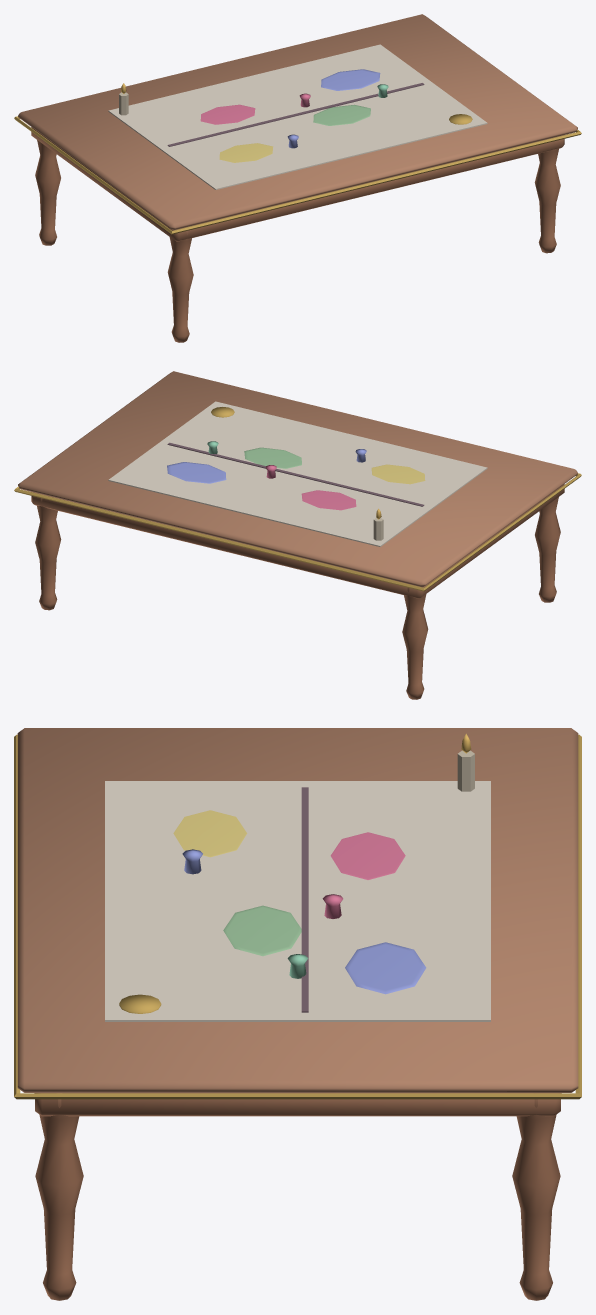
Rendered from map_table.glb.
3 renders of one model, top to bottom at view 1: azimuth 30°, elevation 25°; view 2: azimuth 150°, elevation 25°; view 3: azimuth 270°, elevation 25°, orthographic. The views are drawn at different scales.
Parts seen in each view (by area): view 1: map_table; view 2: map_table; view 3: map_table.
Part boxes in pixels (left/top/right/bottom): map_table: left=14, top=14, right=581, bottom=342; map_table: left=14, top=371, right=581, bottom=699; map_table: left=14, top=728, right=581, bottom=1300.
Size of what is drawn, in the model's own units: 2.4 by 0.9 by 1.6.
